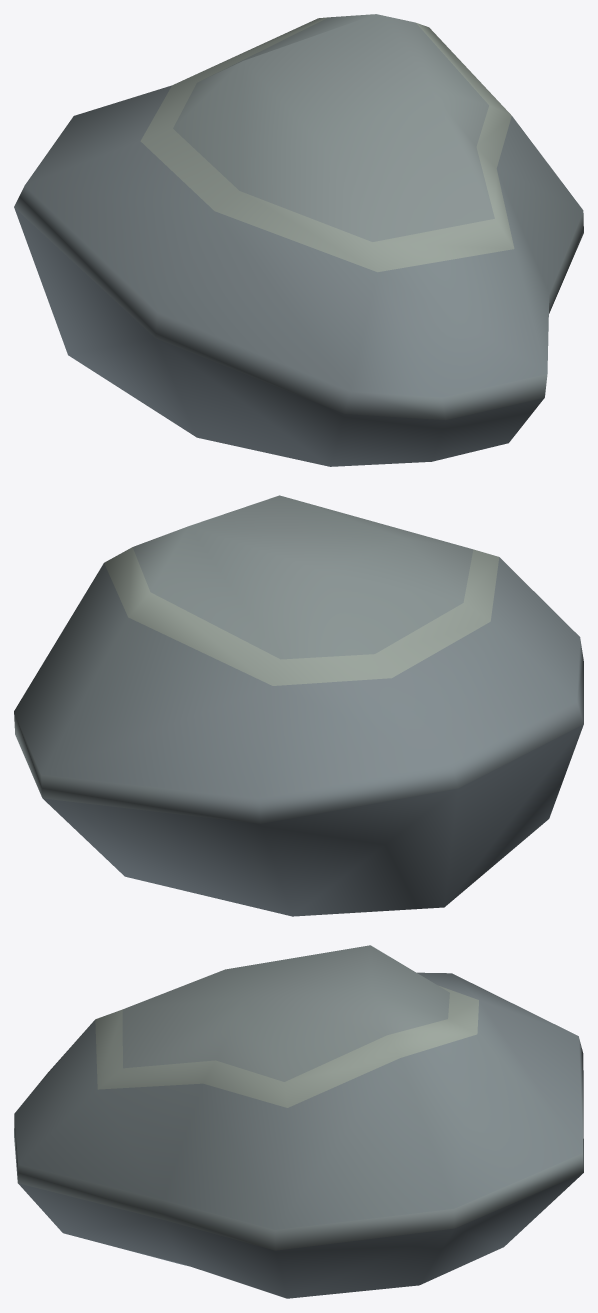
Rendered from iron_ore_M.fbx.
The picture shows the model from 3 angles, top to bottom: view 1: azimuth 30°, elevation 25°; view 2: azimuth 150°, elevation 25°; view 3: azimuth 270°, elevation 25°; orthographic projection. The views are drawn at different scales.
Visible parts, largest first — view 1: iron_ore_M; view 2: iron_ore_M; view 3: iron_ore_M.
Boxes of the visible parts, left/top/right/bottom form: iron_ore_M: left=14, top=14, right=583, bottom=466; iron_ore_M: left=14, top=495, right=583, bottom=916; iron_ore_M: left=14, top=945, right=583, bottom=1298.
Size of the model in its own units: 44.27 by 30.65 by 52.35.
Materials: 1 (1 with a texture image).
